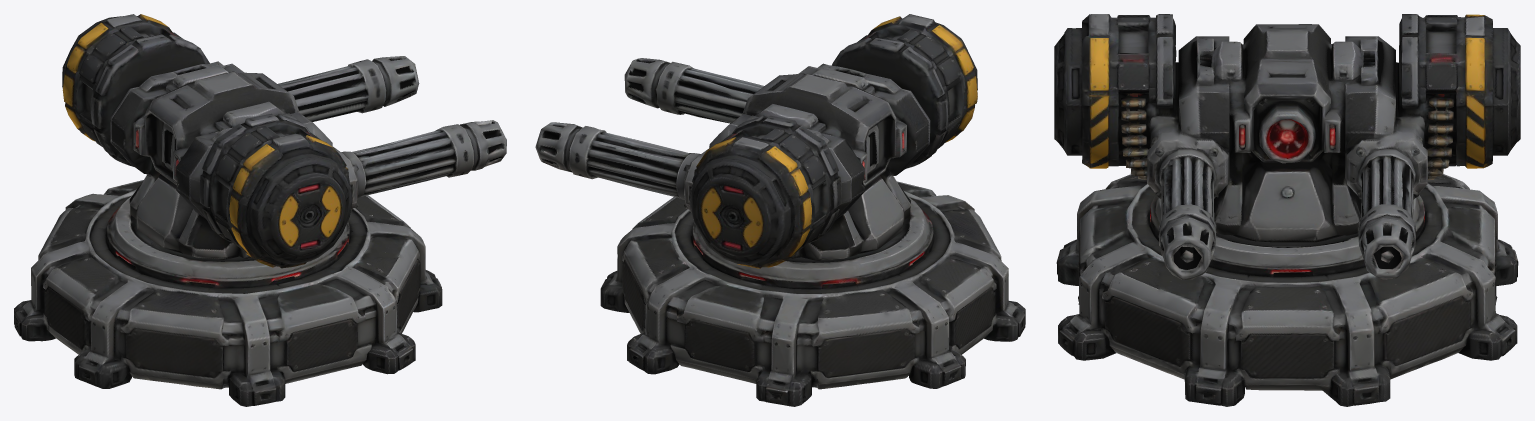
The model's file is DefenseTurret.glb.
3 renders of one model, left to right at view 1: azimuth 30°, elevation 25°; view 2: azimuth 150°, elevation 25°; view 3: azimuth 270°, elevation 25°, orthographic. The views are drawn at different scales.
Parts seen in each view (by area): view 1: Mesh::generatedModels/VtMQha7JPPhFJ0FQBGtM.gltf; view 2: Mesh::generatedModels/VtMQha7JPPhFJ0FQBGtM.gltf; view 3: Mesh::generatedModels/VtMQha7JPPhFJ0FQBGtM.gltf.
Part boxes in pixels (left/top/right/bottom): Mesh::generatedModels/VtMQha7JPPhFJ0FQBGtM.gltf: left=14, top=14, right=506, bottom=406; Mesh::generatedModels/VtMQha7JPPhFJ0FQBGtM.gltf: left=535, top=14, right=1025, bottom=406; Mesh::generatedModels/VtMQha7JPPhFJ0FQBGtM.gltf: left=1054, top=14, right=1520, bottom=406.
Size of the model in its own units: 1 by 0.5729 by 0.8809.
Materials: 1 (1 with a texture image).
